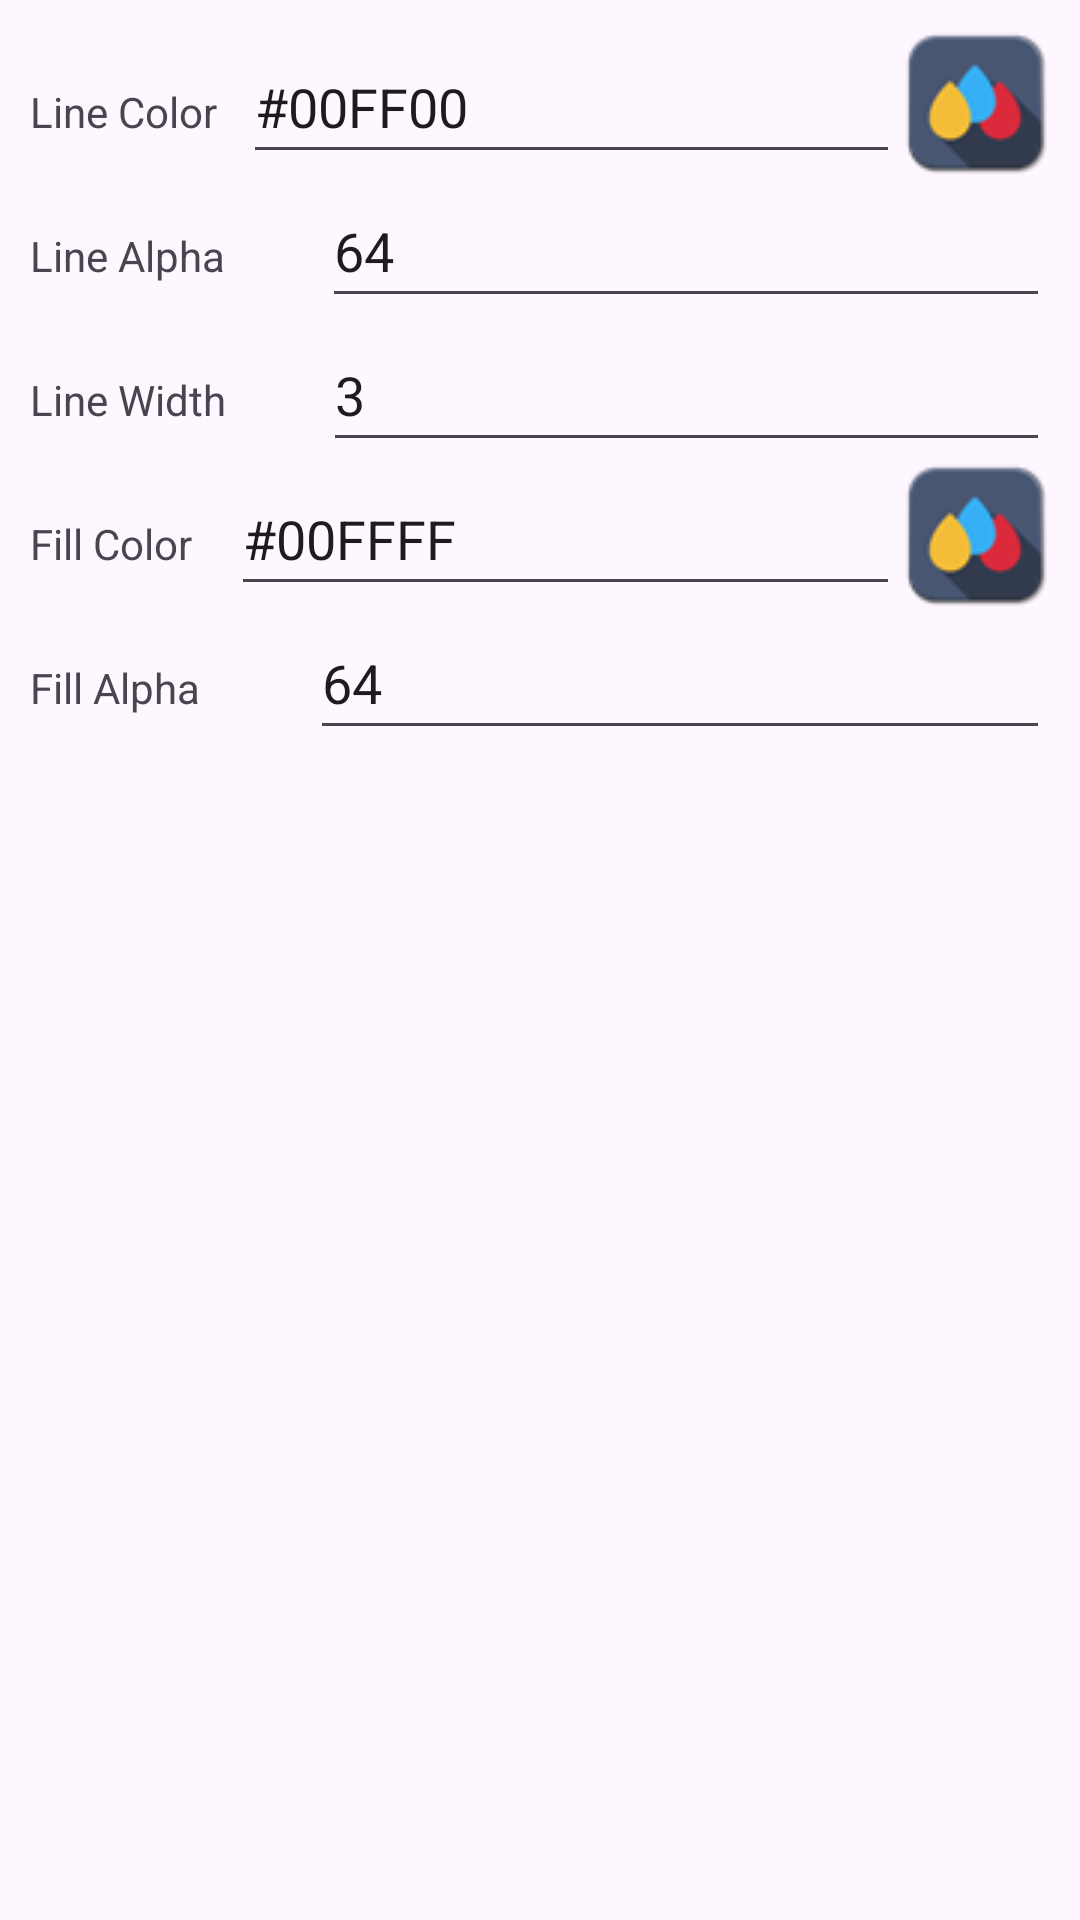

Icons on this 1080x1920 Android screen, each with its box as [left=x1, top=y1, right=x2, bottom=y2]:
Fill Color: [left=907, top=467, right=1045, bottom=606]
Line Color: [left=907, top=35, right=1045, bottom=174]
